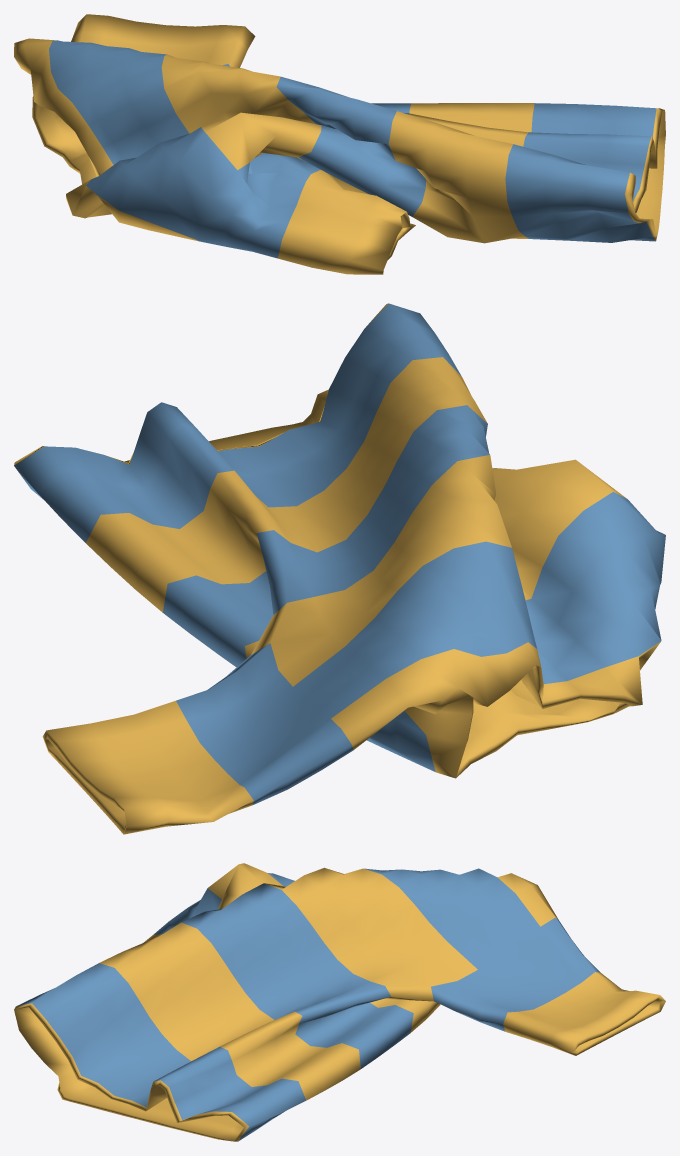
Rendered from ShirtPhysics.fbx.
3 views of the same model, one above another, from view 1: azimuth 30°, elevation 25°; view 2: azimuth 150°, elevation 25°; view 3: azimuth 270°, elevation 25° (orthographic). The views are drawn at different scales.
Parts seen in each view (by area): view 1: Shirt; view 2: Shirt; view 3: Shirt.
Part boxes in pixels (bbox=[...]): Shirt: bbox=[14, 14, 665, 274]; Shirt: bbox=[14, 303, 665, 834]; Shirt: bbox=[14, 863, 665, 1141].
Bounding box in the file's own units: 845 × 201 × 1055.
1 material, 1 textured.
